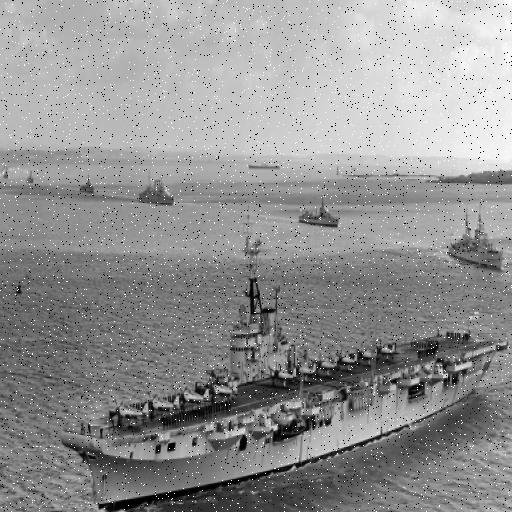Portanaves: (58, 250, 512, 512)
